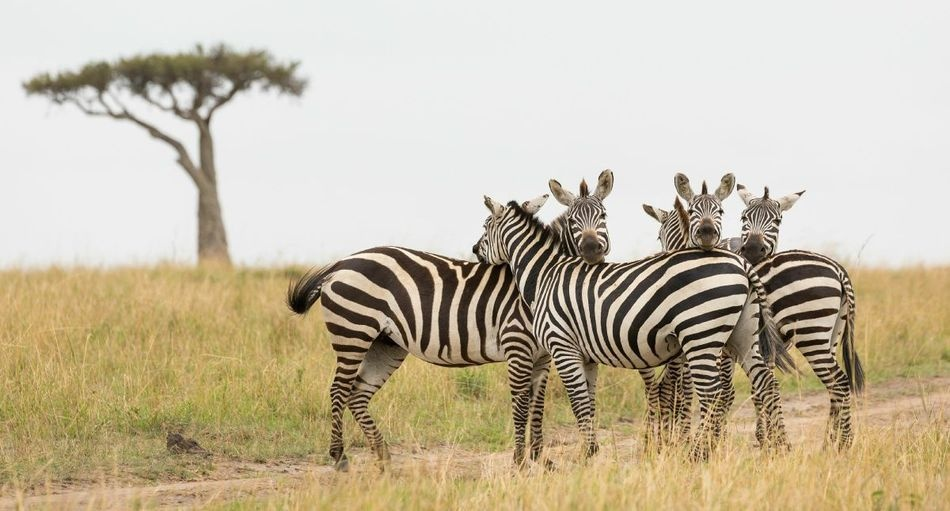zebra: (292, 164, 618, 472), (466, 189, 773, 466), (641, 194, 856, 452)
